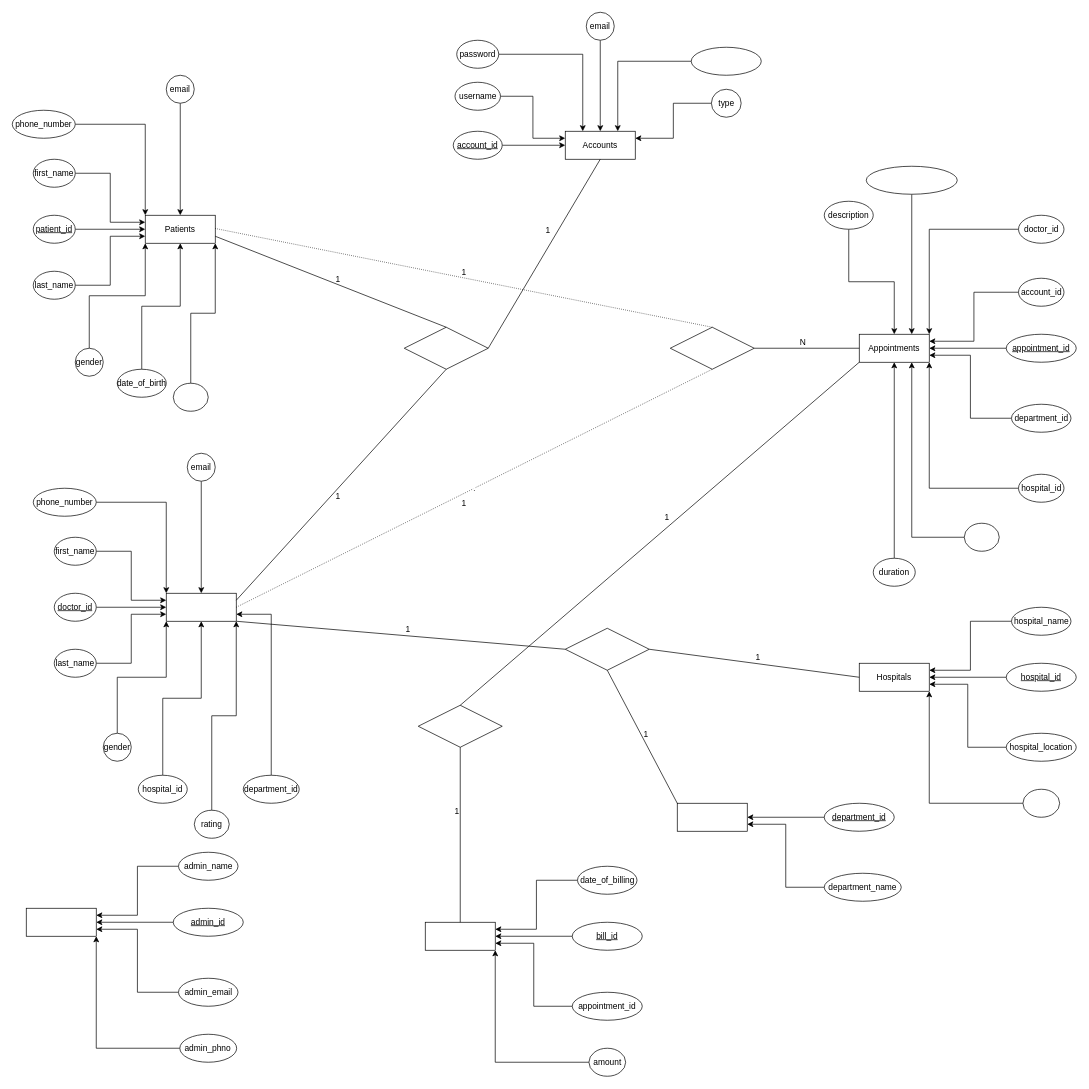
Some shapes in this 1089 by 1089 pixel diagram are drawn without their labels. Here are the shapes that lost their labels. From the top down, the box of each, then its label:
(691, 47, 761, 75): profile_url
(866, 166, 957, 194): appointment_datetime
(404, 327, 488, 369): Details
(670, 327, 754, 369): Book
(173, 383, 208, 411): address
(964, 523, 999, 551): status
(166, 593, 236, 621): Doctors
(565, 628, 649, 670): Registered
(418, 705, 502, 747): Payment
(677, 803, 747, 831): Departments
(1022, 789, 1060, 817): image
(26, 908, 96, 936): Admins
(425, 922, 495, 950): Billing
